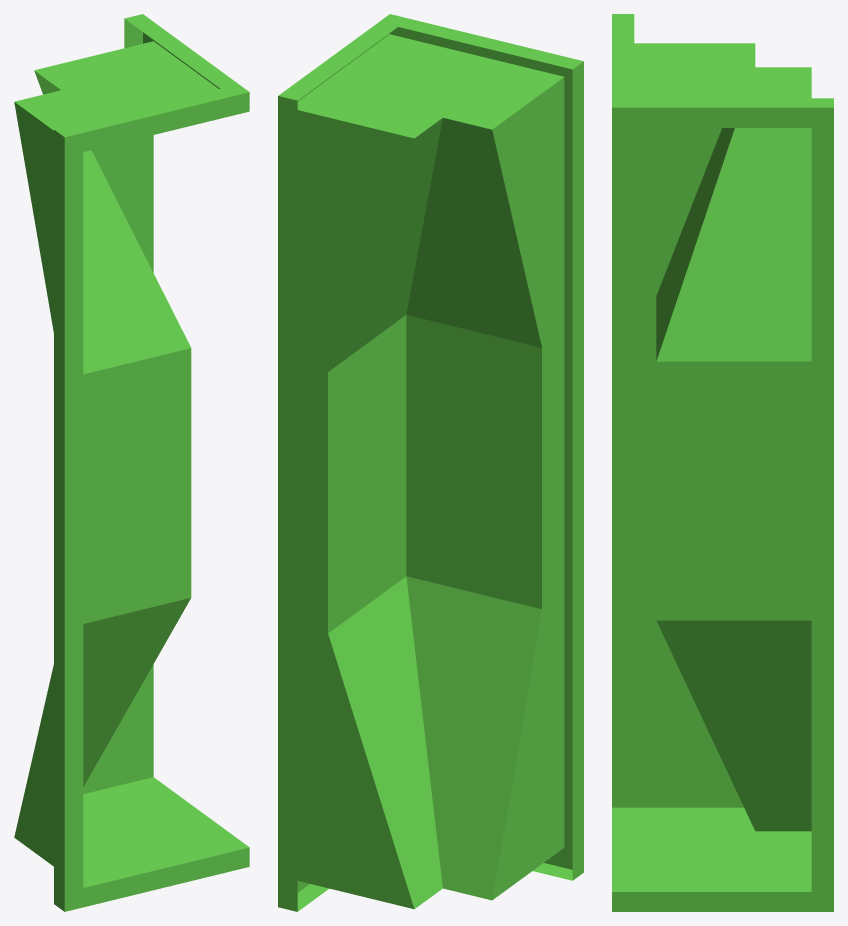
File: Wall_B_Turn_Out.FBX
The picture shows the model from 3 angles, left to right: view 1: azimuth 30°, elevation 25°; view 2: azimuth 150°, elevation 25°; view 3: azimuth 270°, elevation 25°; orthographic projection. The views are drawn at different scales.
Visible parts, largest first — view 1: Wall_B_Turn_Out; view 2: Wall_B_Turn_Out; view 3: Wall_B_Turn_Out.
Boxes of the visible parts, bbox=[...] form: Wall_B_Turn_Out: bbox=[14, 14, 249, 911]; Wall_B_Turn_Out: bbox=[278, 14, 583, 911]; Wall_B_Turn_Out: bbox=[612, 14, 833, 911].
Size of the model in its own units: 100 by 400 by 100.
